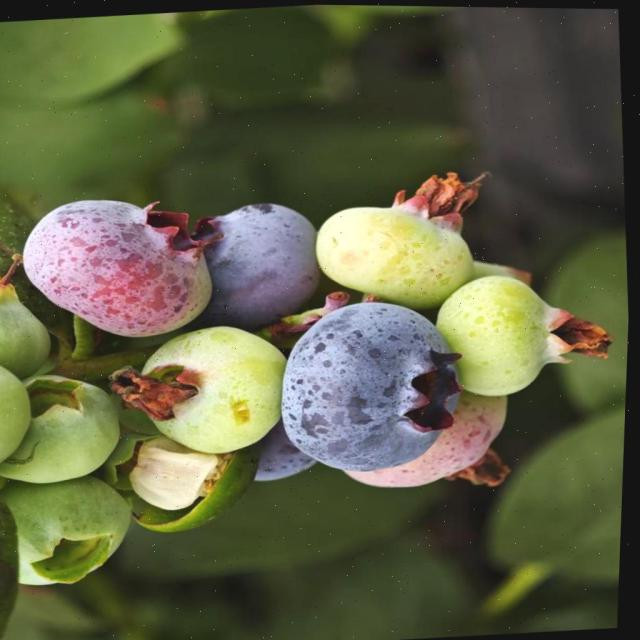RipeBlueBerry: (272, 290, 468, 478)
Semi-RipeBlueBerry: (13, 187, 225, 347)
UnripeBlueBerry: (125, 320, 294, 460), (432, 264, 592, 402)
